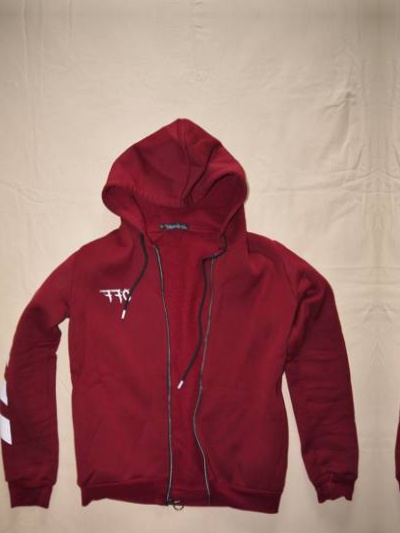Hoodie: (0, 109, 362, 532), (394, 111, 400, 533)
